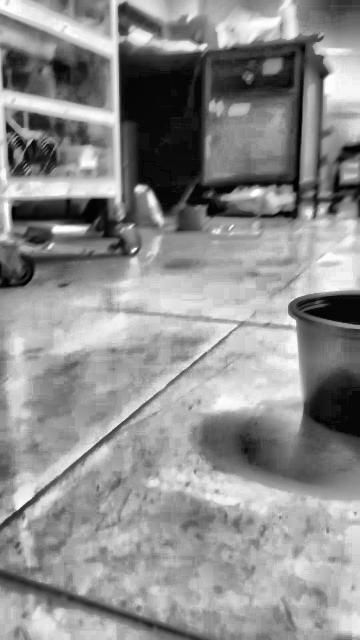pot: (289, 292, 360, 437)
